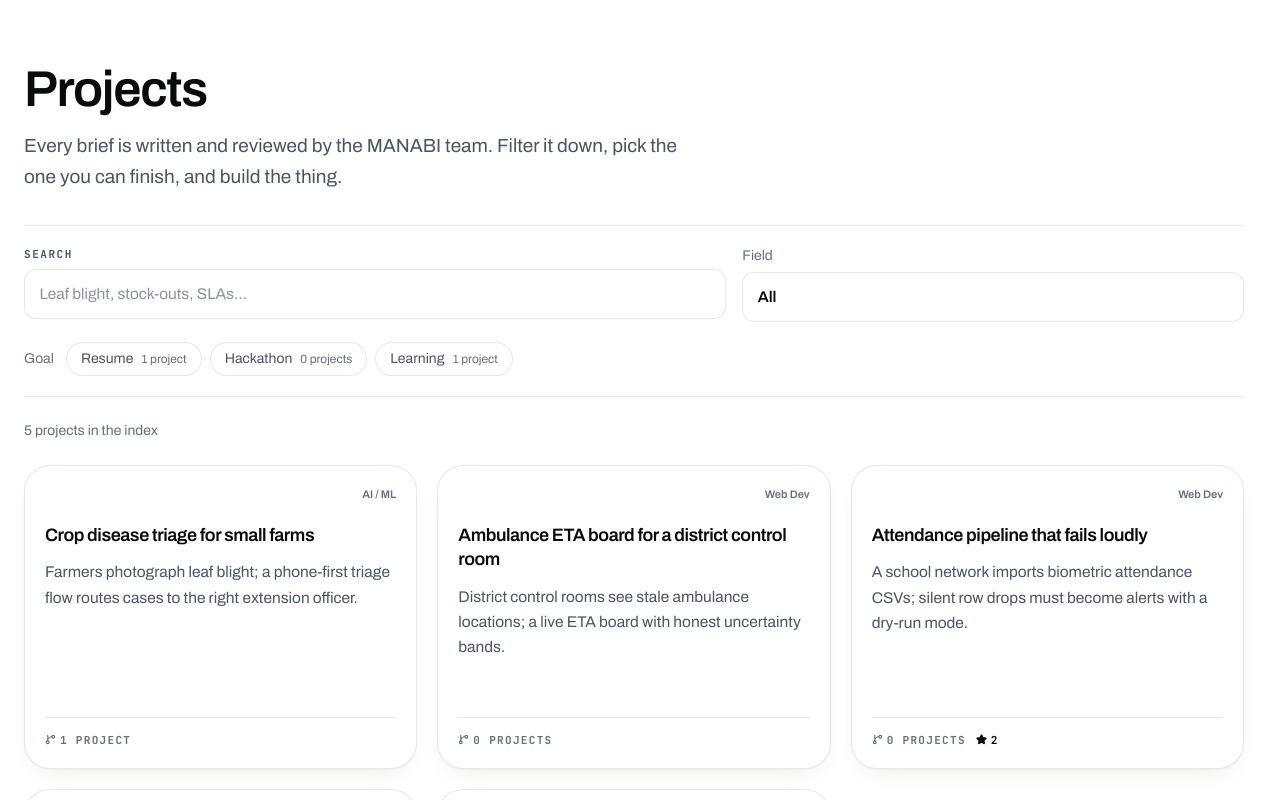
Test: ProblemBoardPage › clear filters resets the board
This screenshot has width=1280, height=800.
Step 1. Type "crop" into the search field labelled "Search" → [375, 294], box [24,269,726,319]
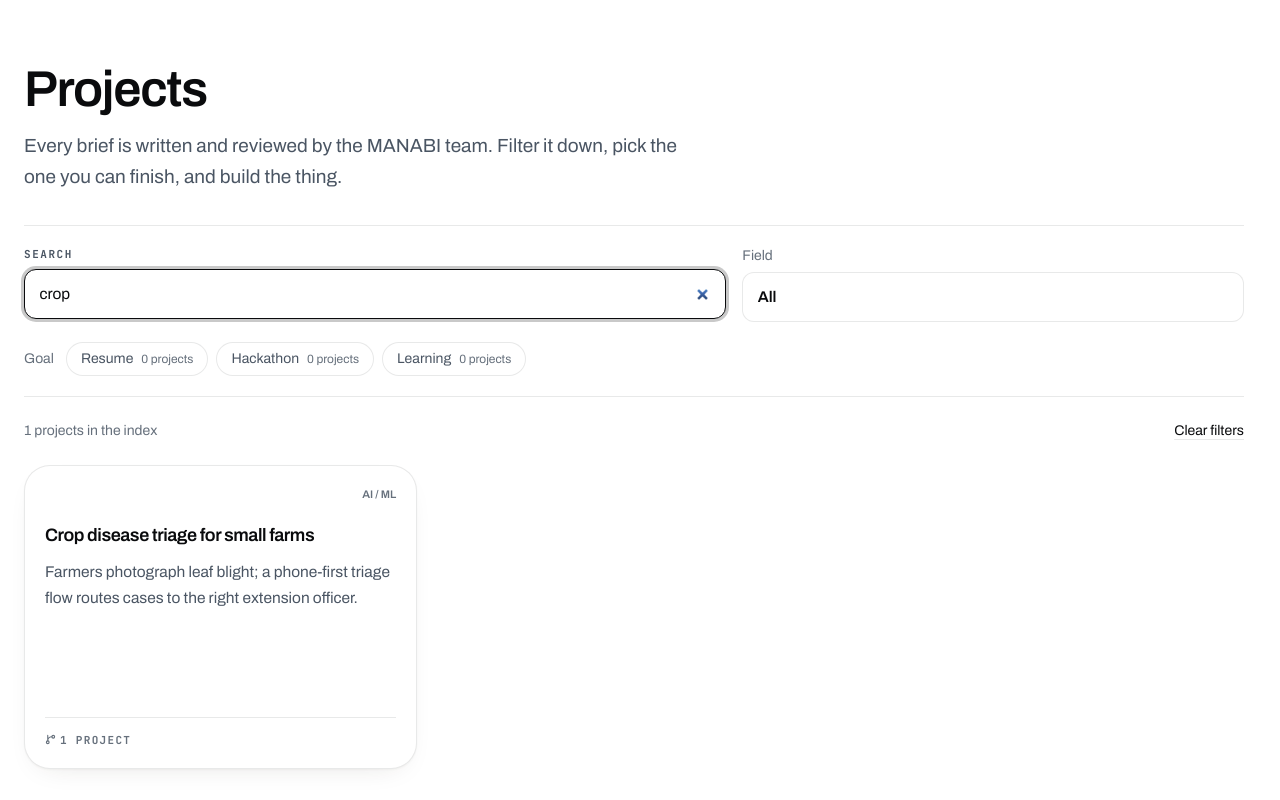
Step 2. Click the button "Clear filters" → [1209, 431], box [1174,421,1244,441]
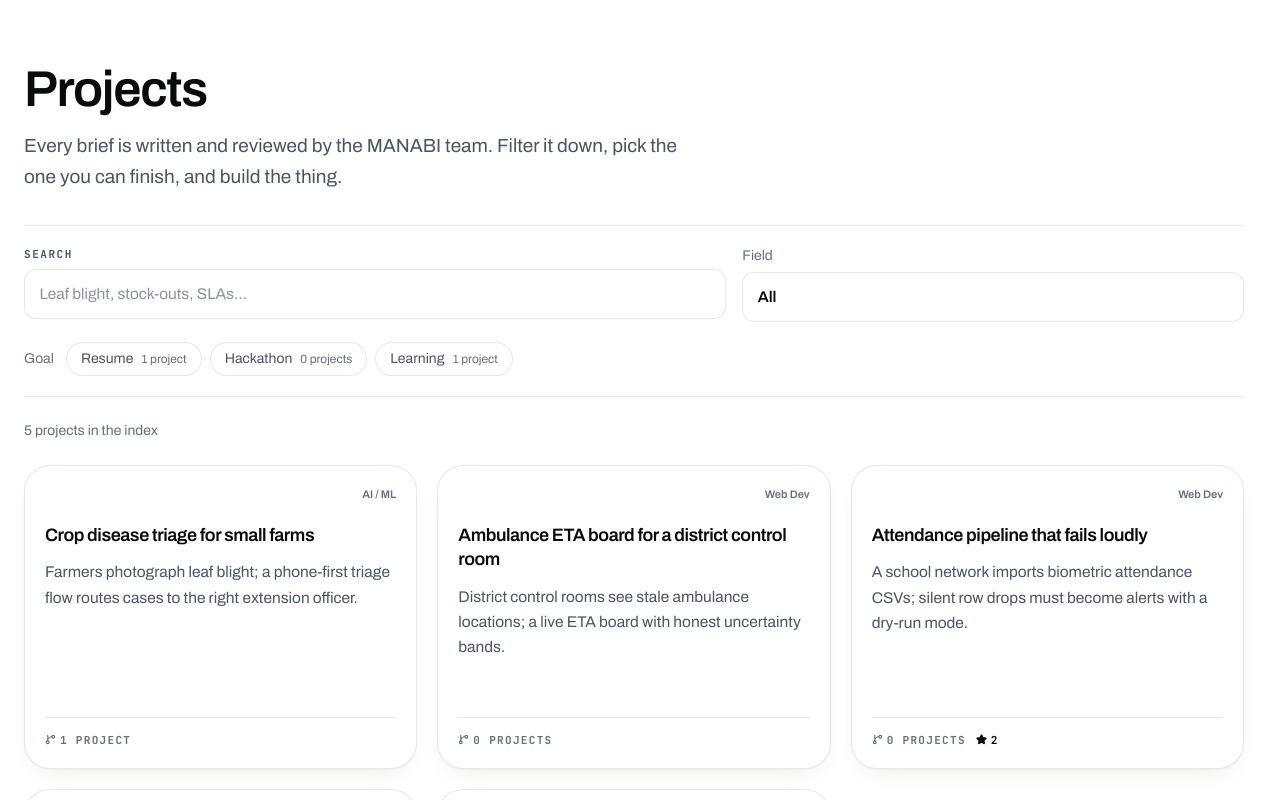
Expected: the text "5 projects in the index" is shown, [24,421,158,441]
Expected: the button "Clear filters" is gone
